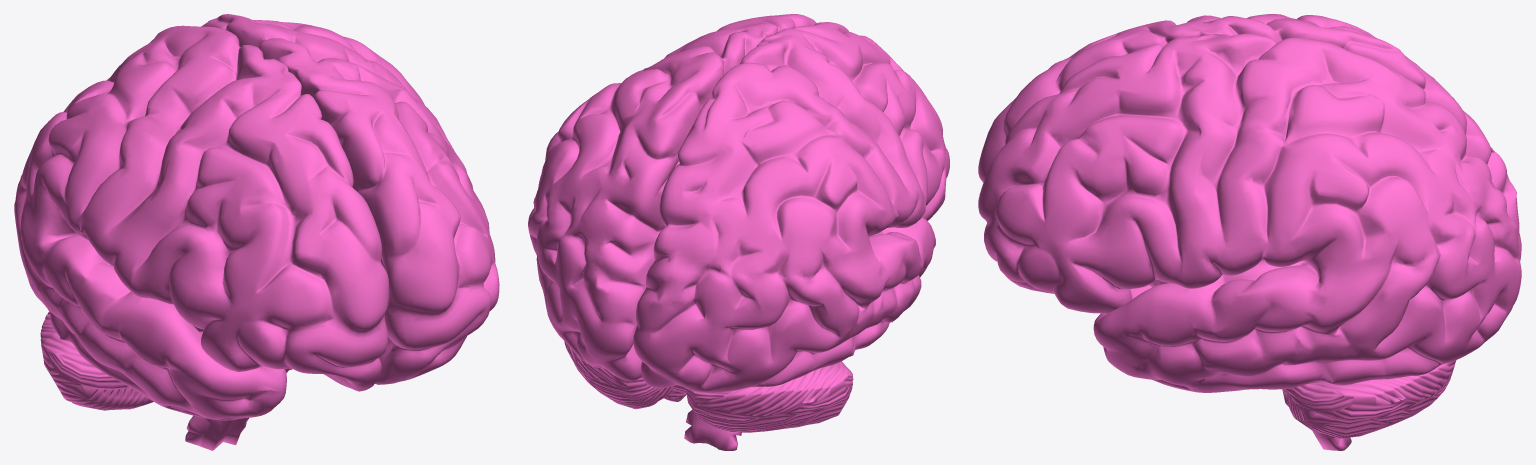
The model's file is brain.glb.
The picture shows the model from 3 angles, left to right: view 1: azimuth 30°, elevation 25°; view 2: azimuth 150°, elevation 25°; view 3: azimuth 270°, elevation 25°; orthographic projection. The views are drawn at different scales.
Parts seen in each view (by area): view 1: Node1; view 2: Node1; view 3: Node1.
Boxes of the visible parts, box(x1,y1,x2,y2) form: Node1: box(14, 14, 499, 450); Node1: box(528, 14, 949, 450); Node1: box(978, 14, 1521, 450).
Bounding box in the file's own units: 0.3796 × 0.4021 × 0.4729.
